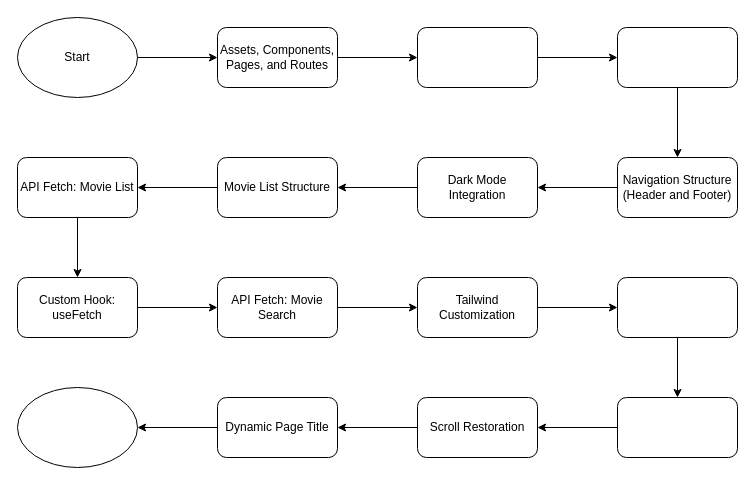
The diagram is 755 pixels wide and 485 high, and some of its shapes have lost their labels. Each missing label, with the box of its shape:
API Documentation: (416, 26, 538, 88)
Deployment: (16, 386, 138, 468)
Individual Movie Information: (616, 396, 738, 458)
Page Not Found: (616, 276, 738, 338)
UI Design (Tailwind and Flowbite): (616, 26, 738, 88)
